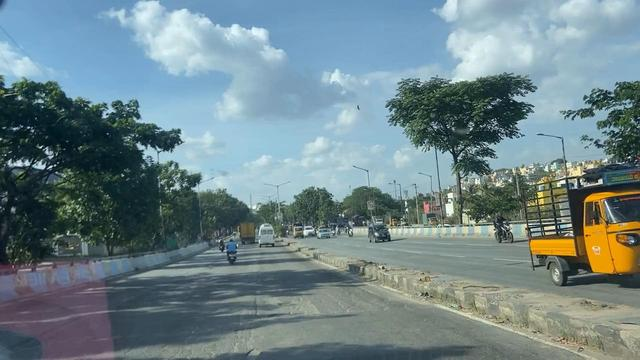HMV: (253, 220, 277, 250)
LMV: (217, 235, 241, 267)
RoadDamages: (115, 293, 380, 360), (314, 281, 398, 338), (20, 307, 104, 360), (172, 279, 245, 312)
